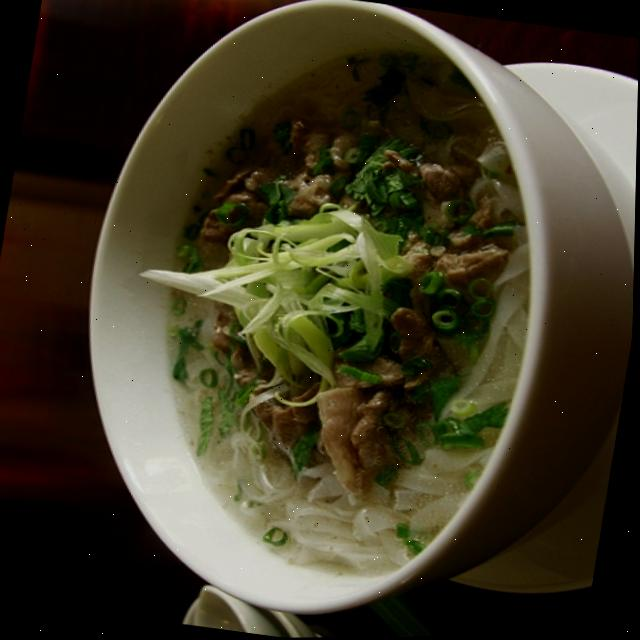面条主食: (8, 0, 640, 640)
